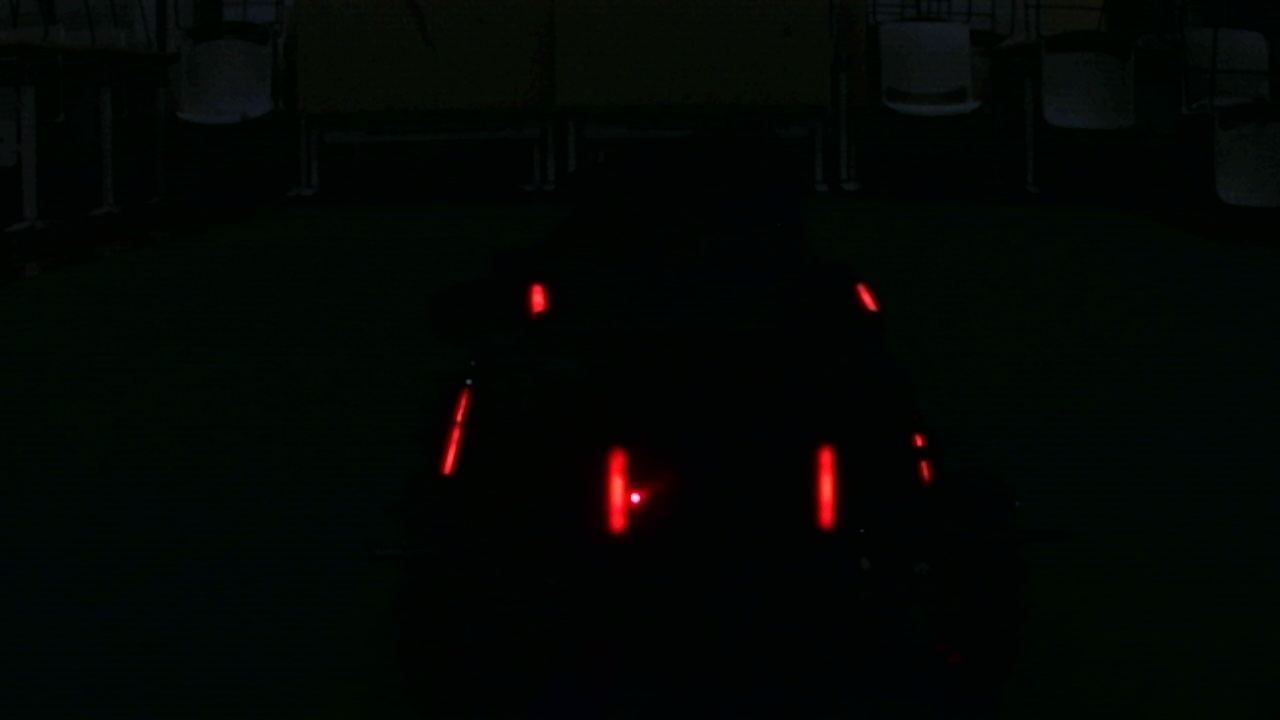lamp: (812, 441, 836, 531), (606, 446, 629, 532)
pair1: (604, 443, 838, 534)
